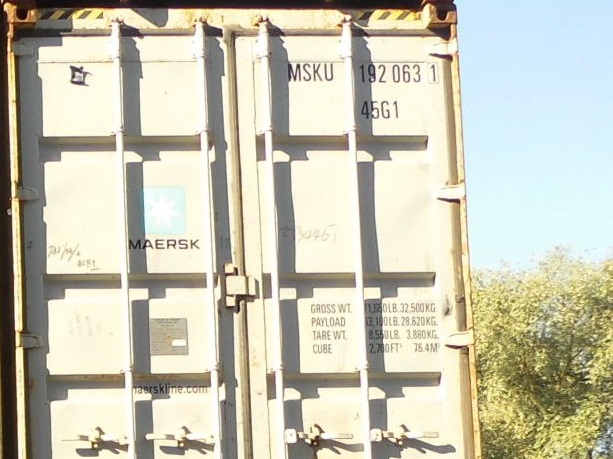container_door: (4, 6, 481, 459)
